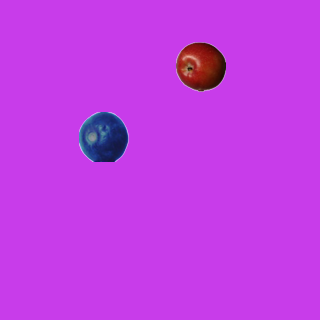Apple Braeburn: (175, 41, 225, 91)
Huckleberry: (78, 111, 128, 161)
